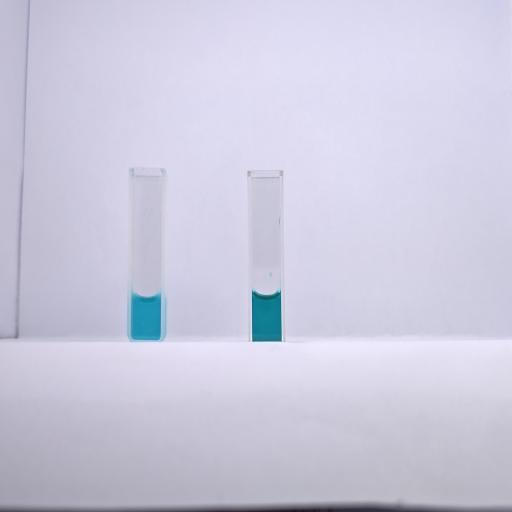cuvette: (126, 166, 167, 343), (246, 168, 286, 344)
liquid: (252, 293, 282, 341), (131, 294, 161, 340)
